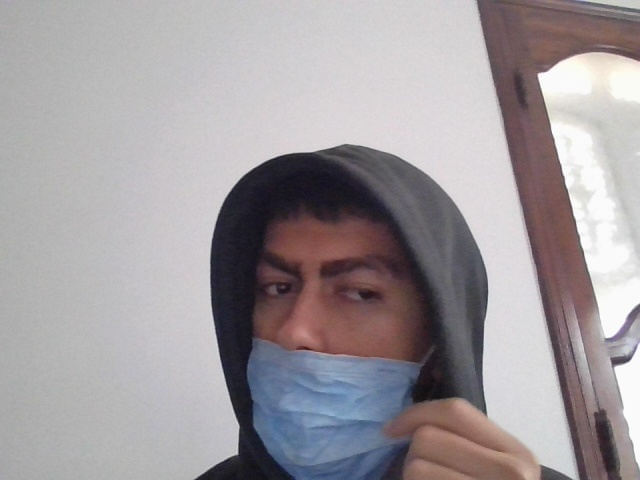mask_weared_incorrect: (239, 192, 453, 479)
